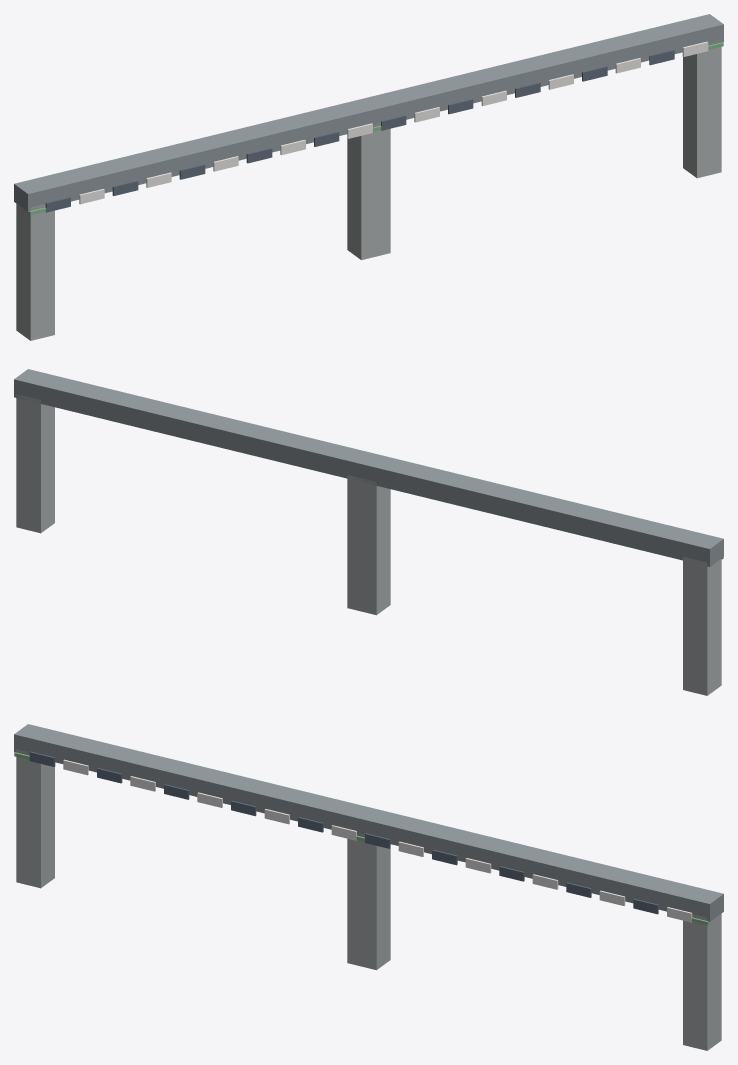
The model's file is arco_meta.glb.
3 renders of one model, top to bottom at view 1: azimuth 30°, elevation 25°; view 2: azimuth 150°, elevation 25°; view 3: azimuth 330°, elevation 25°, orthographic.
Visible parts, largest first — view 1: arco_meta; view 2: arco_meta; view 3: arco_meta.
Boxes of the visible parts, bbox=[...] form: arco_meta: bbox=[14, 14, 723, 340]; arco_meta: bbox=[14, 369, 723, 695]; arco_meta: bbox=[14, 724, 723, 1050].
Bounding box in the file's own units: 28.4 × 5.75 × 1.1.
